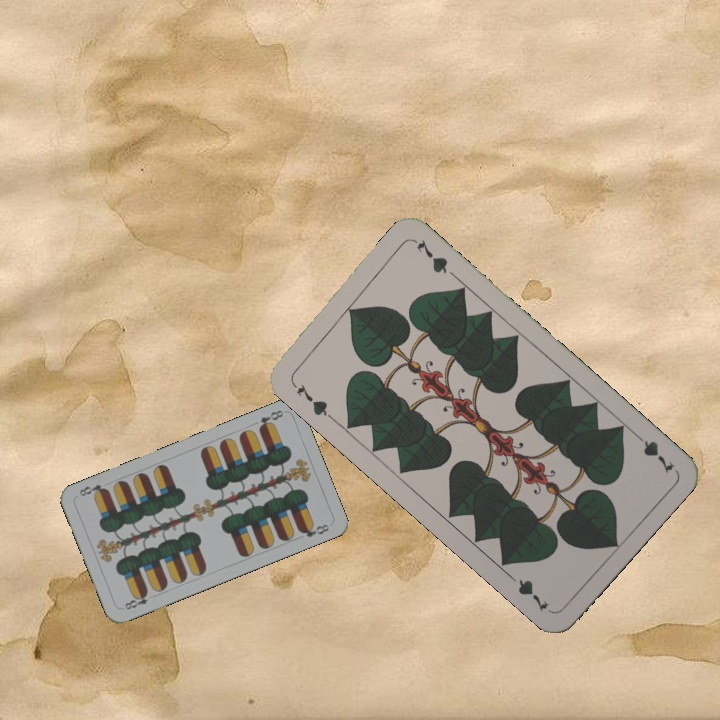E8: (255, 406, 286, 433), (121, 588, 151, 612)
G7: (629, 428, 677, 475), (287, 377, 335, 422)
